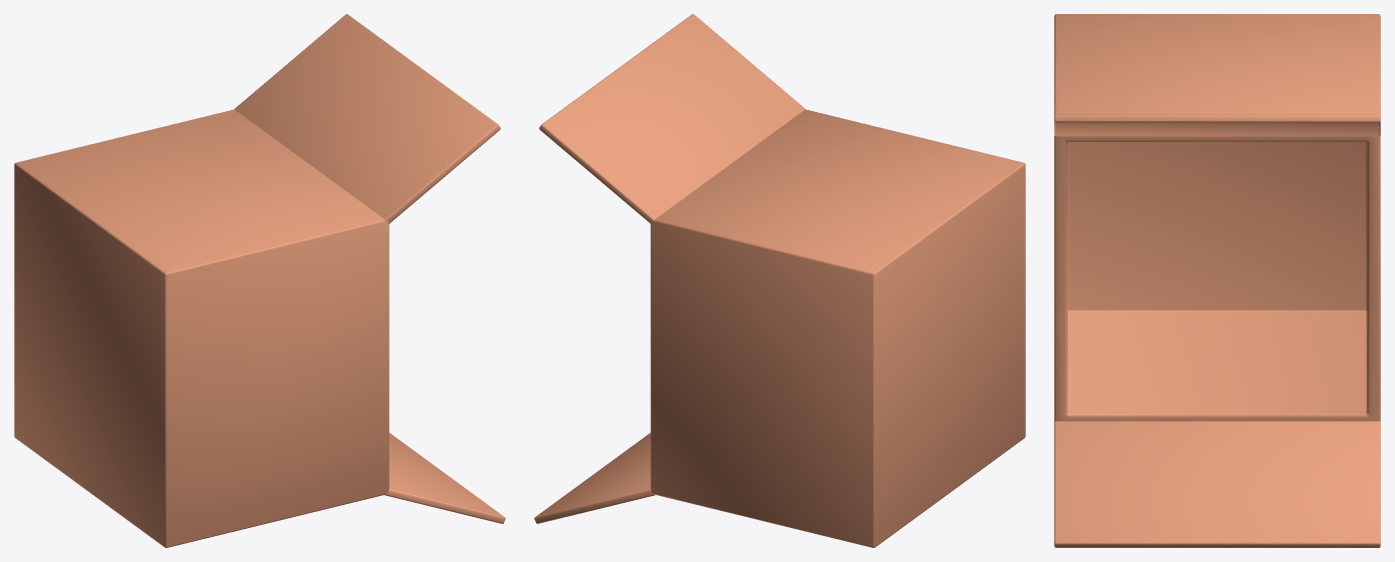
File: SM_Cardboard_Opened_HIGHPOLY.gltf
3 views of the same model, side by side, from view 1: azimuth 30°, elevation 25°; view 2: azimuth 150°, elevation 25°; view 3: azimuth 270°, elevation 25° (orthographic). The views are drawn at different scales.
Visible parts, largest first — view 1: SM_Cardboard_Roof.003, SM_Cardboard_Top_Flap.003, SM_Cardboard_Ramp-convcol.003; view 2: SM_Cardboard_Roof.003, SM_Cardboard_Top_Flap.003, SM_Cardboard_Ramp-convcol.003; view 3: SM_Cardboard_Roof.003, SM_Cardboard_Ramp-convcol.003, SM_Cardboard_Top_Flap.003.
Part boxes in pixels (x1,y1,x2,y2): SM_Cardboard_Roof.003: (14, 109, 389, 547); SM_Cardboard_Top_Flap.003: (234, 14, 500, 223); SM_Cardboard_Ramp-convcol.003: (385, 433, 505, 523); SM_Cardboard_Roof.003: (650, 109, 1025, 547); SM_Cardboard_Top_Flap.003: (539, 14, 805, 223); SM_Cardboard_Ramp-convcol.003: (534, 433, 654, 523); SM_Cardboard_Roof.003: (1054, 14, 1380, 421); SM_Cardboard_Ramp-convcol.003: (1054, 421, 1380, 547); SM_Cardboard_Top_Flap.003: (1054, 114, 1380, 136).
Bounding box in the file's own units: 5.18 × 5.82 × 4.
